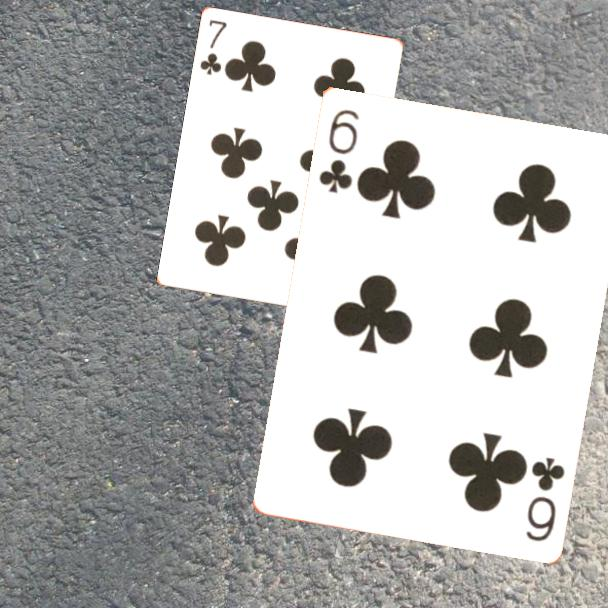c06: (315, 105, 361, 196), (522, 453, 568, 544)
c07: (197, 17, 230, 78)
